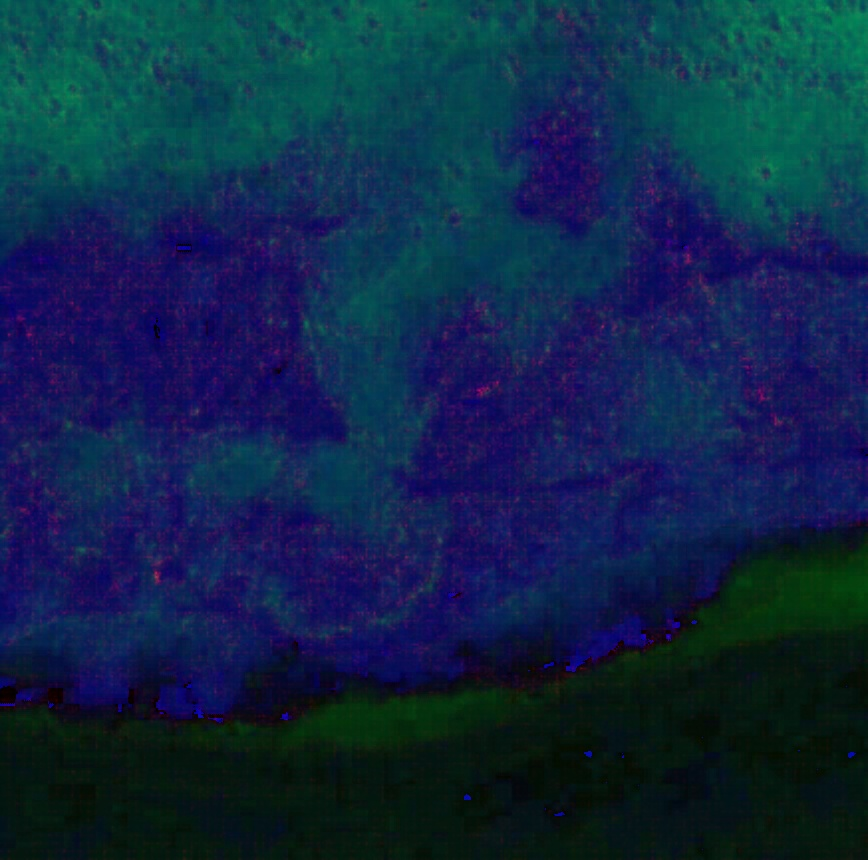rip_current: (248, 40, 502, 530)
